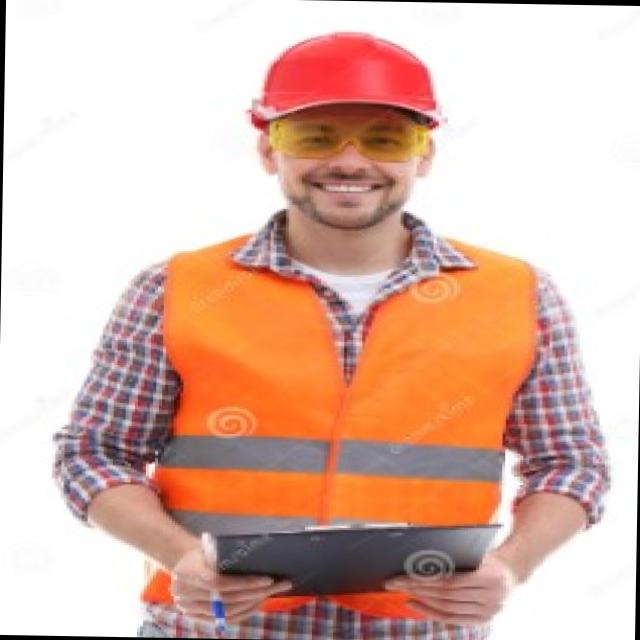not-gloved: (375, 550, 546, 632), (164, 543, 289, 629)
